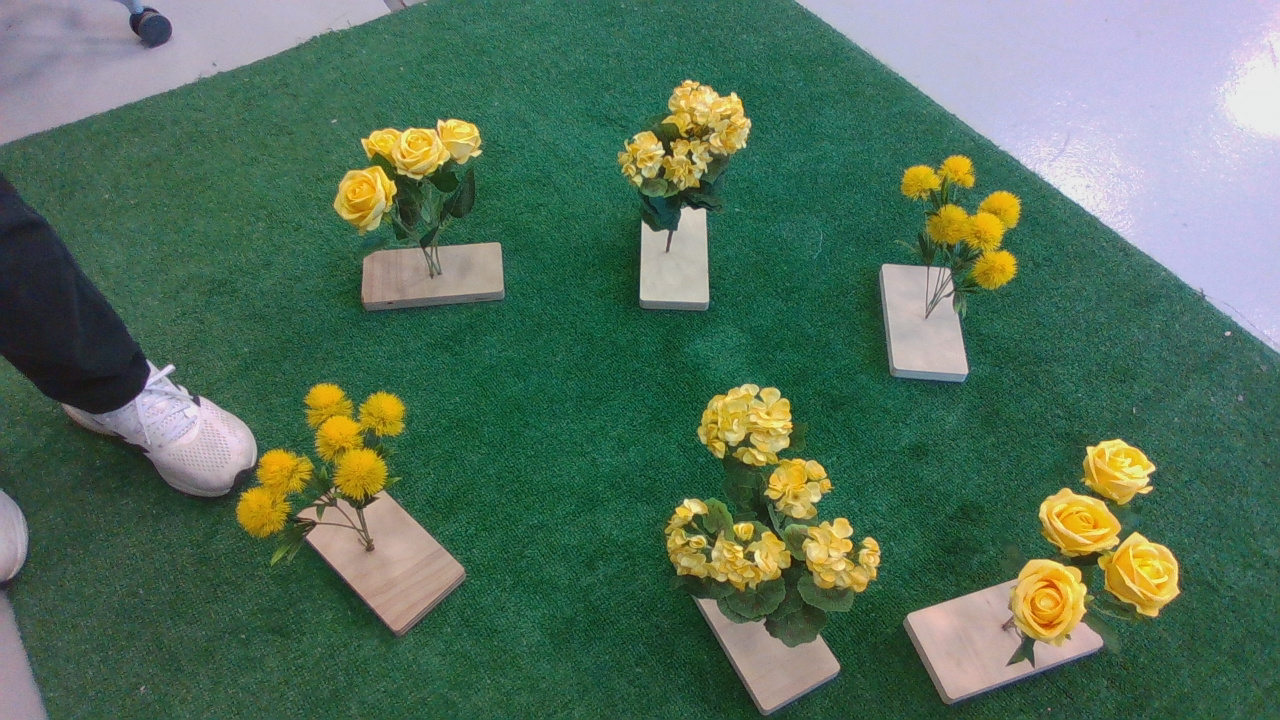dandelion: (234, 384, 434, 571), (889, 142, 1029, 325)
geranium: (662, 383, 892, 657), (620, 82, 759, 244)
rose: (1001, 435, 1194, 681), (335, 120, 504, 263)
